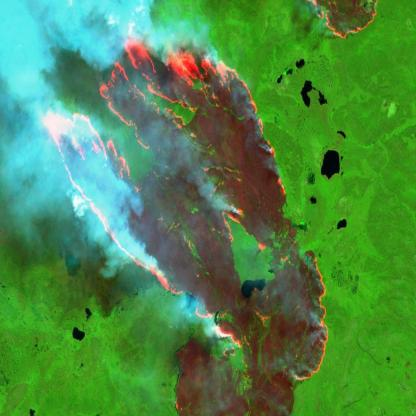fire: (41, 36, 325, 383), (311, 0, 379, 37)
